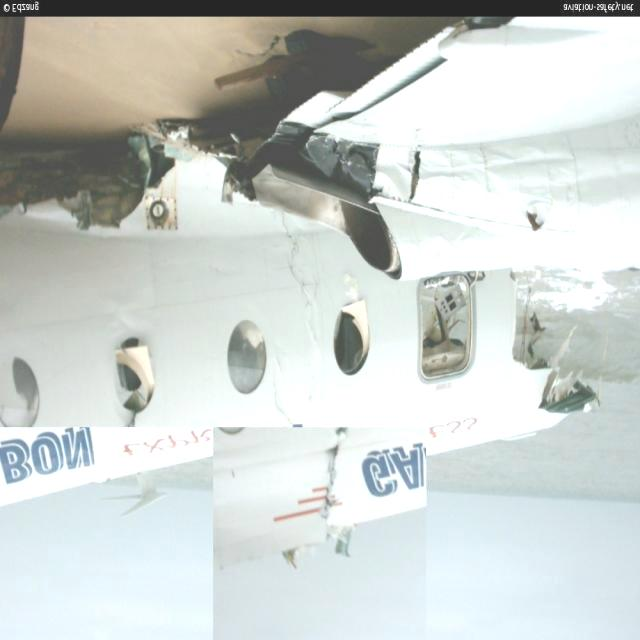crack: (276, 213, 317, 339), (314, 426, 350, 526), (406, 147, 426, 204), (127, 411, 141, 427)
